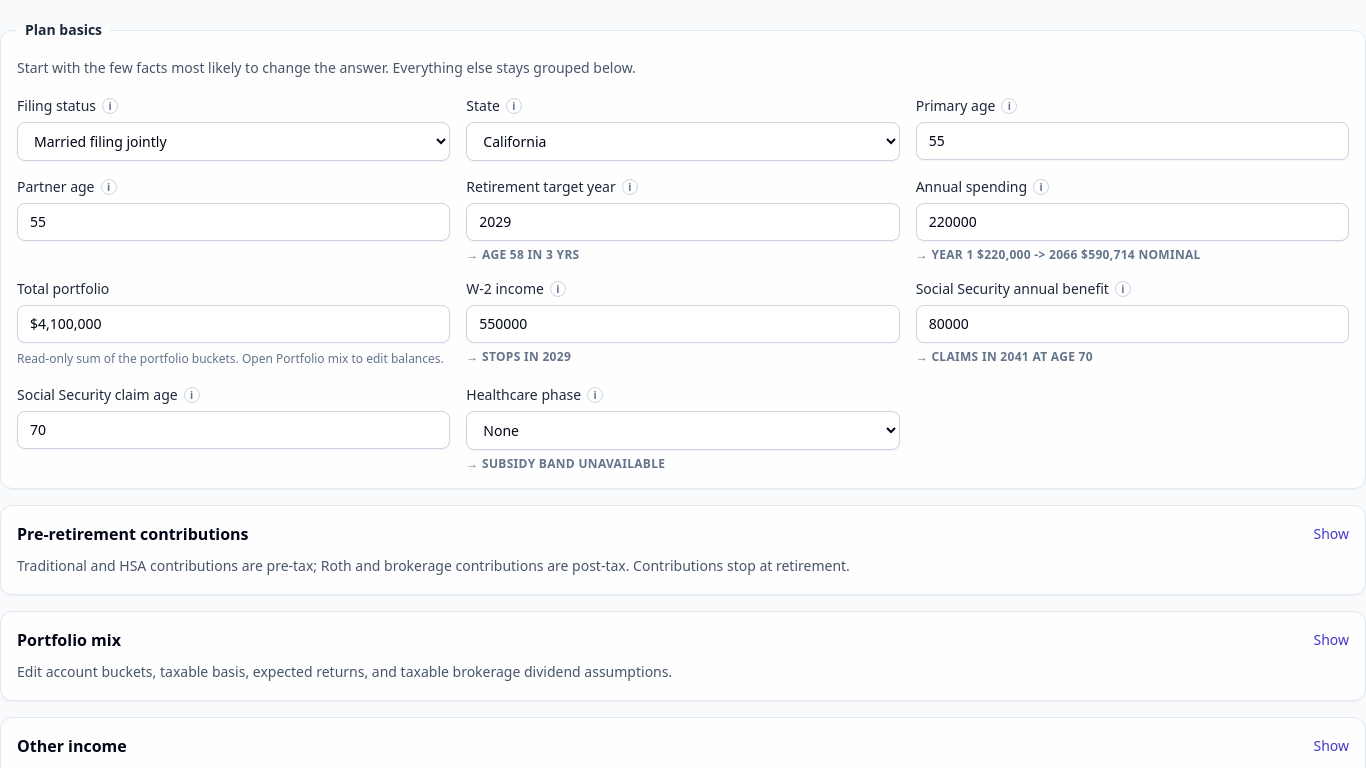
Test case: BasicForm verdict layout › shows contribution controls in a dedicated disclosure only before retirement
The image size is (1366, 768).
Expected: the text "Traditional and HSA contributions are pre-tax; Roth and brokerage contributions are post-tax. Contributions stop at reti" is shown, 17,556 -> 850,575
Click the button "Pre-retirement contributions Show". click: [133, 534]
box: 17,522 -> 1349,546
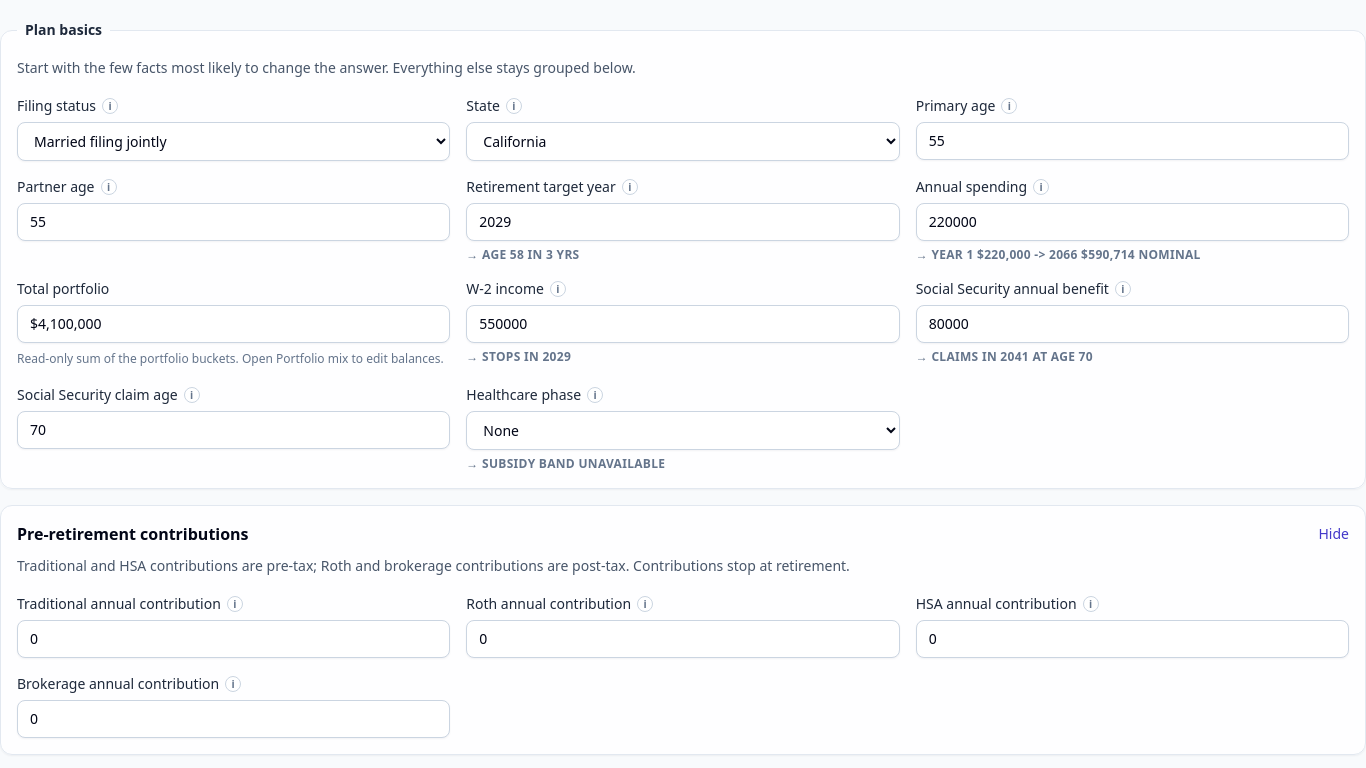
Expected: the button "Pre-retirement contributions Hide" is expanded, 17,522 -> 1349,546
Expected: the field labelled "Traditional annual contribution" holds "0", 17,620 -> 450,658
Expected: the field labelled "Roth annual contribution" holds "0", 466,620 -> 900,658
